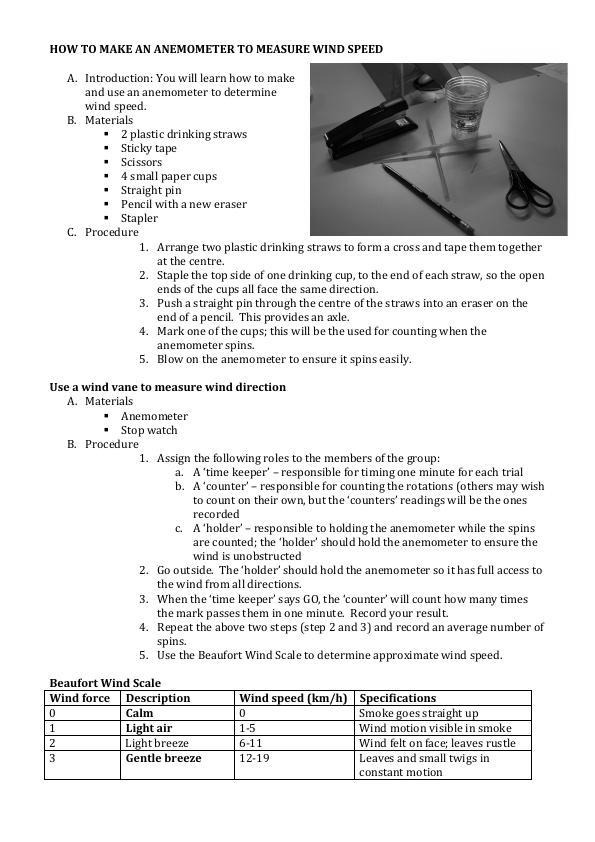table: (42, 689, 536, 785)
text: (63, 438, 557, 670), (137, 242, 548, 371), (65, 115, 257, 225), (64, 71, 300, 115), (46, 38, 386, 59), (61, 395, 193, 438), (45, 379, 291, 396), (47, 677, 163, 689), (62, 227, 144, 239)
